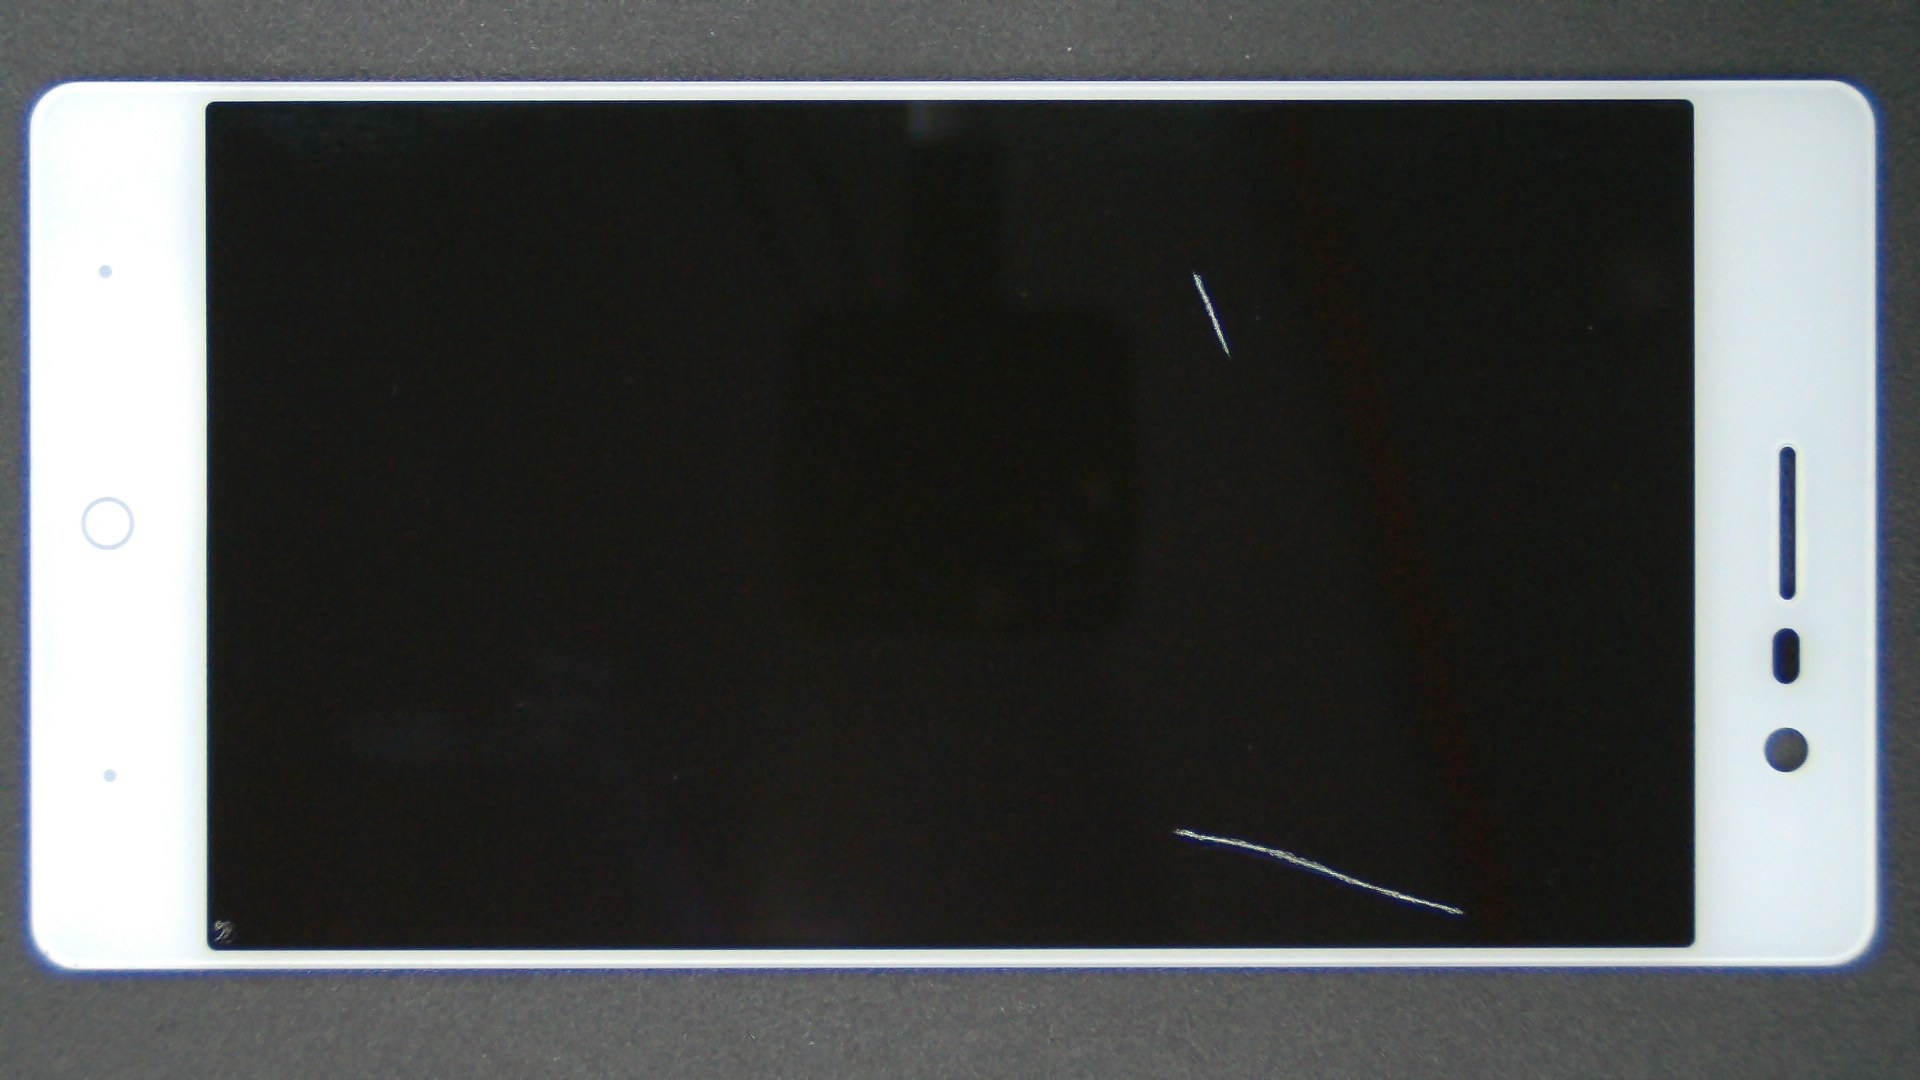oil: (589, 413, 1766, 1080), (596, 135, 1789, 406), (109, 458, 324, 1080)
